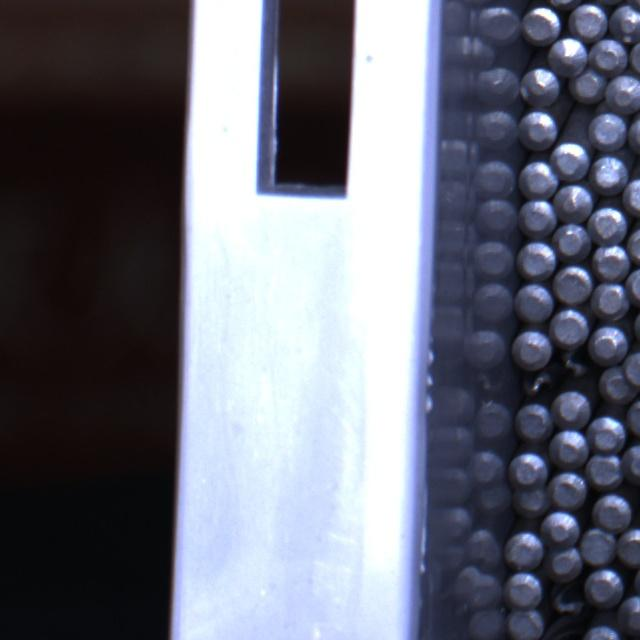tool: (520, 4, 560, 45), (584, 568, 624, 609), (588, 325, 628, 364), (592, 492, 632, 531), (512, 330, 552, 369), (551, 306, 590, 346), (518, 110, 557, 149), (570, 1, 609, 40), (589, 112, 628, 151), (505, 530, 545, 568), (548, 36, 586, 76), (520, 66, 560, 104), (511, 454, 551, 492), (554, 264, 592, 303), (515, 403, 553, 442), (554, 182, 592, 221), (553, 139, 590, 179), (518, 240, 556, 278), (522, 162, 560, 200), (515, 282, 553, 320), (591, 156, 628, 195), (590, 413, 627, 452), (505, 570, 543, 607), (591, 205, 628, 243), (553, 391, 591, 428), (590, 37, 629, 73), (522, 198, 559, 235), (551, 472, 588, 508), (581, 528, 617, 565), (587, 453, 624, 489), (551, 430, 587, 467), (568, 68, 606, 103), (513, 482, 551, 517), (606, 73, 640, 112), (594, 281, 629, 318), (556, 222, 591, 258), (595, 244, 630, 280), (544, 510, 579, 546), (549, 546, 583, 581), (506, 609, 544, 640), (611, 2, 640, 41), (617, 528, 640, 567), (619, 593, 640, 635), (623, 442, 640, 484), (623, 176, 640, 214), (582, 624, 622, 640), (626, 394, 640, 437), (628, 108, 640, 152), (625, 349, 640, 384), (627, 268, 640, 307), (628, 224, 640, 264), (629, 39, 640, 76), (545, 0, 583, 8)
tool_b: (554, 347, 592, 382), (550, 582, 586, 618), (522, 368, 554, 399)
